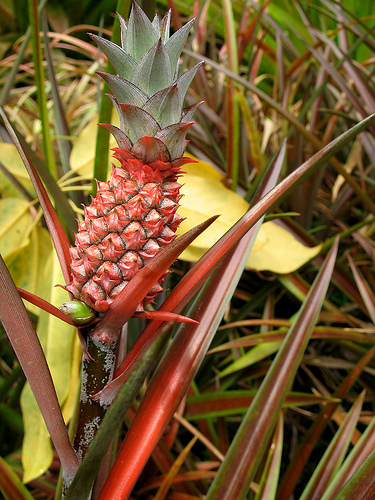pineapple: (70, 2, 201, 311)
